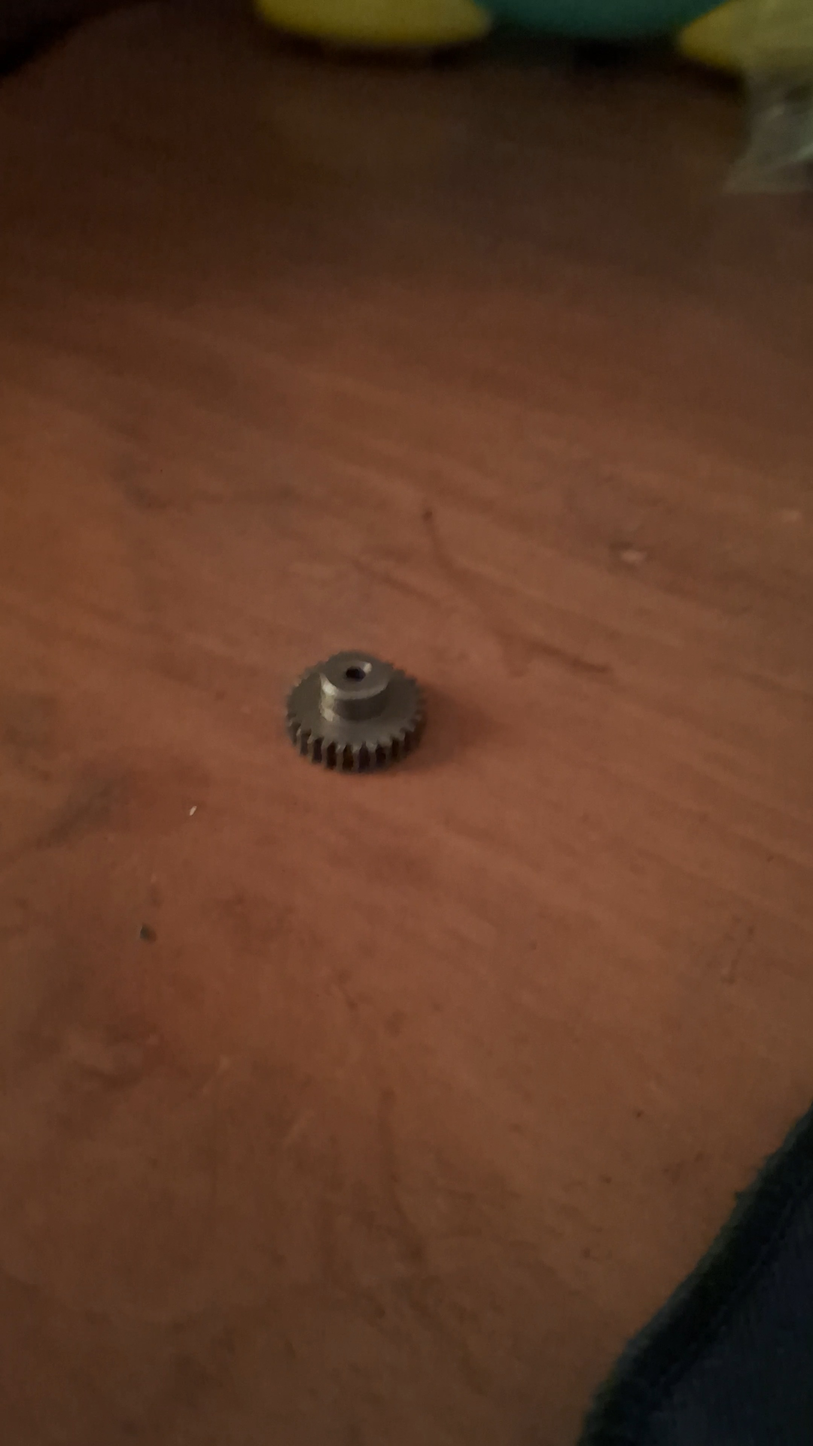spur gear: (286, 652, 424, 772)
